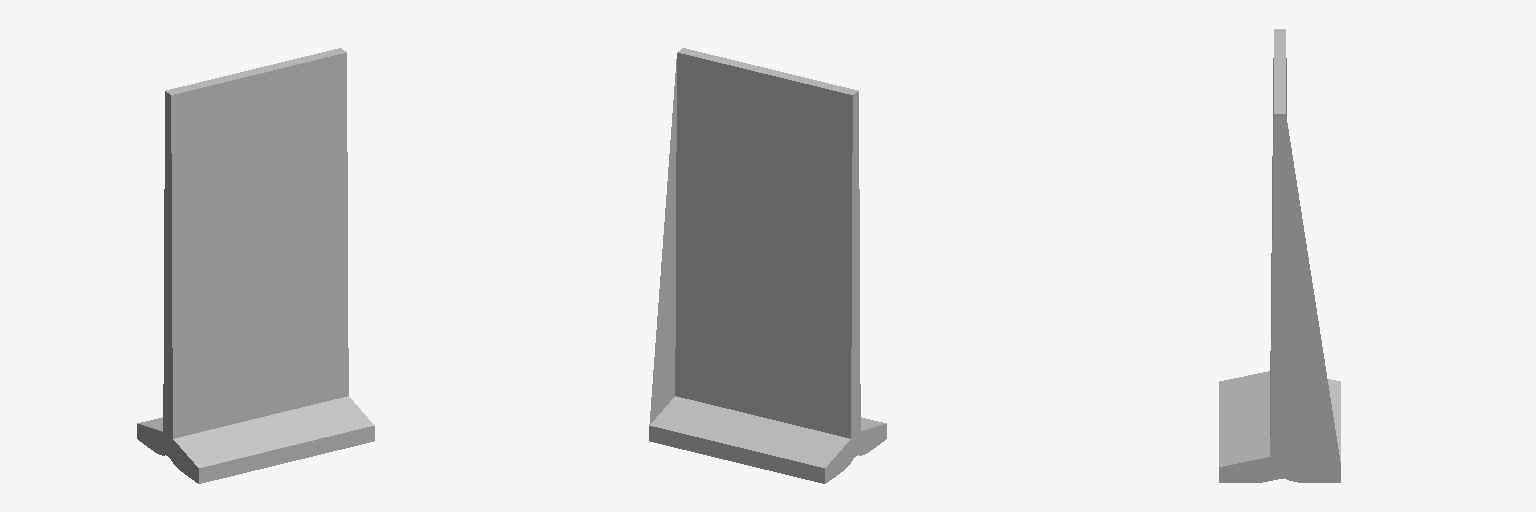
File: vertical-barricade.obj
3 renders of one model, left to right at view 1: azimuth 30°, elevation 25°; view 2: azimuth 150°, elevation 25°; view 3: azimuth 270°, elevation 25°, orthographic.
Parts seen in each view (by area): view 1: опора_вертикальной_баррикады.001_Куб.014; view 2: опора_вертикальной_баррикады.001_Куб.014; view 3: опора_вертикальной_баррикады.001_Куб.014.
Boxes of the visible parts, x1,y1,x2,y2 form: опора_вертикальной_баррикады.001_Куб.014: [137, 48, 374, 483]; опора_вертикальной_баррикады.001_Куб.014: [649, 48, 886, 483]; опора_вертикальной_баррикады.001_Куб.014: [1219, 29, 1340, 482].
Bounding box in the file's own units: 4 × 8.02 × 2.42.